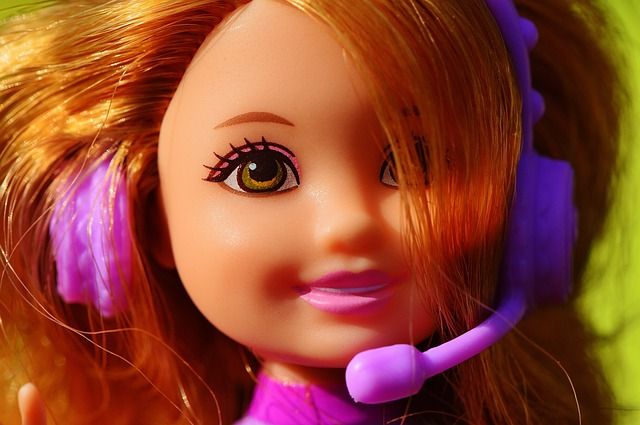headphones: (53, 1, 574, 318)
